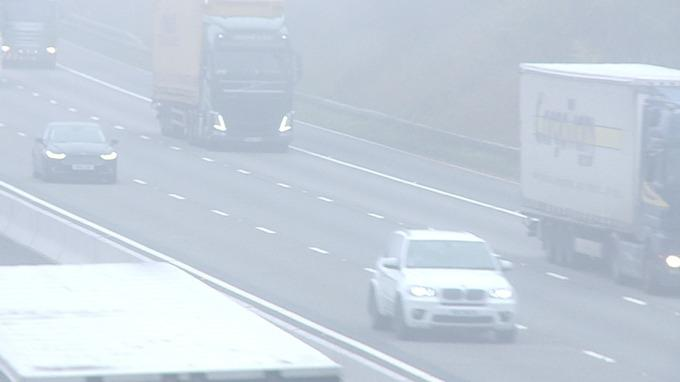bus: (518, 62, 680, 294), (147, 1, 298, 152), (1, 1, 60, 69)
car: (364, 228, 522, 344), (30, 120, 120, 183)
